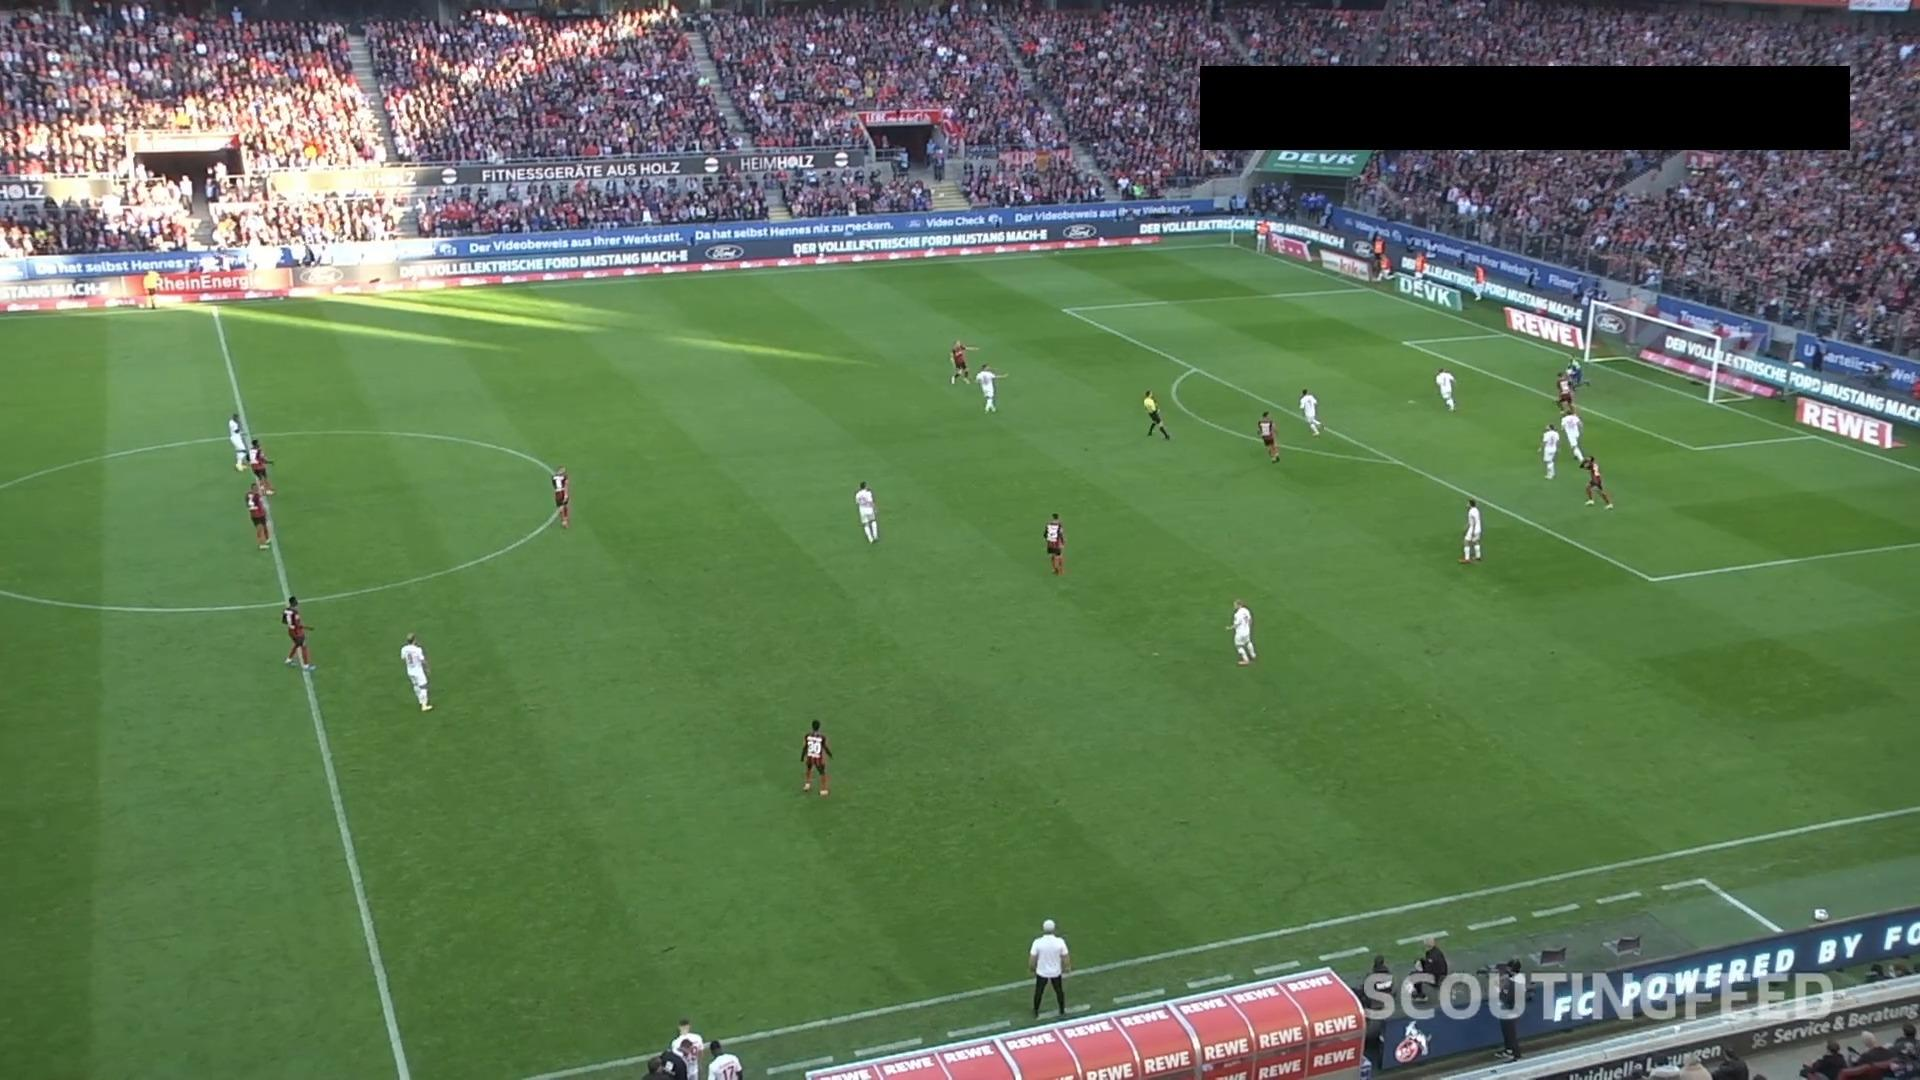ball: (1567, 367, 1573, 376)
